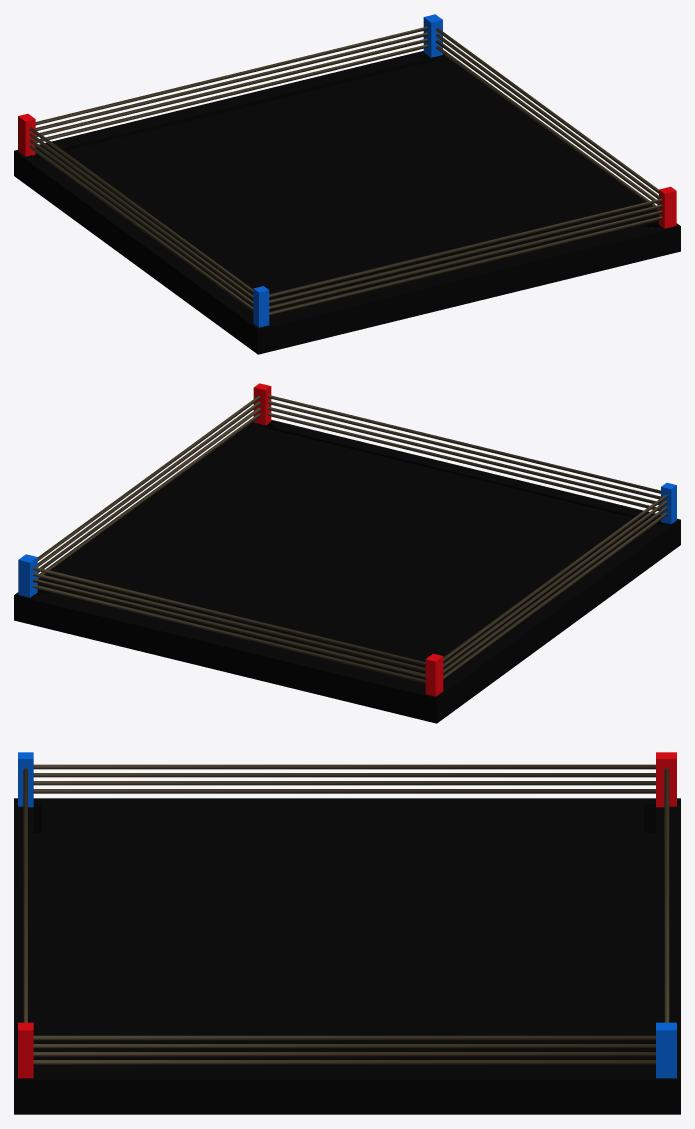
Rendered from _ing.fbx.
3 renders of one model, top to bottom at view 1: azimuth 30°, elevation 25°; view 2: azimuth 150°, elevation 25°; view 3: azimuth 270°, elevation 25°, orthographic. The views are drawn at different scales.
Visible parts, largest first — view 1: Cube.002; view 2: Cube.002; view 3: Cube.002.
Boxes of the visible parts, x1,y1,x2,y2 form: Cube.002: [14, 14, 680, 354]; Cube.002: [14, 383, 680, 723]; Cube.002: [14, 752, 680, 1114].
Size of the model in its own units: 3320 by 453 by 3320.
